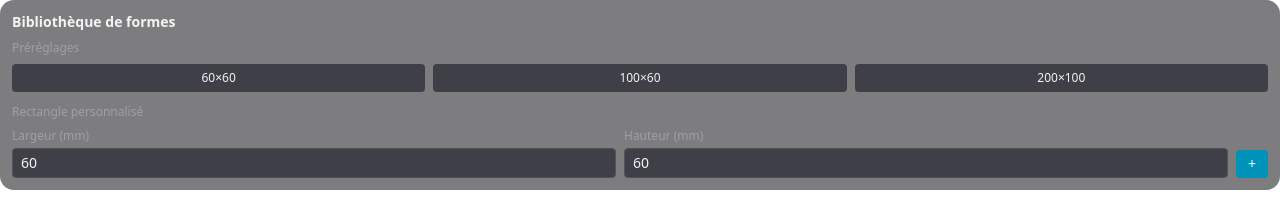
Test case: ShapeLibrary - UI Component › Input tolerance and validation › clamps to minimum 5mm on blur when value is empty
The image size is (1280, 207).
Clear the field with test id "custom-width" at (314, 163), box [12, 148, 616, 178]
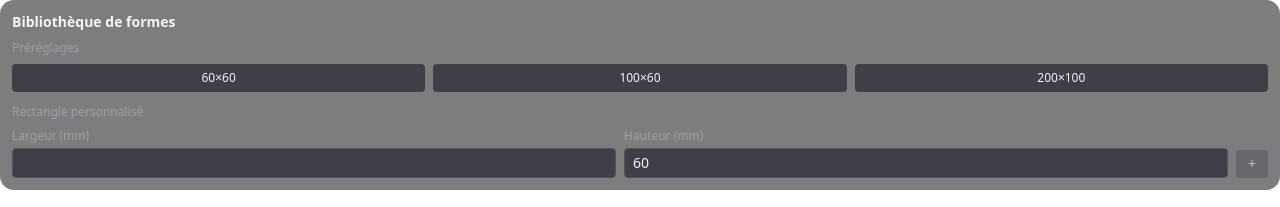
Leave the field with test id "custom-width", box [12, 148, 616, 178]
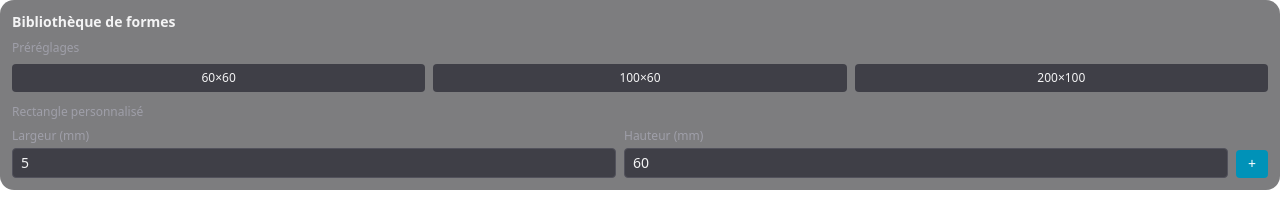
Now the field with test id "custom-width" holds "5", box [12, 148, 616, 178]
